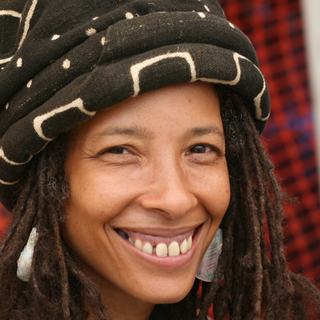eye: (94, 140, 145, 164), (179, 139, 221, 164)
